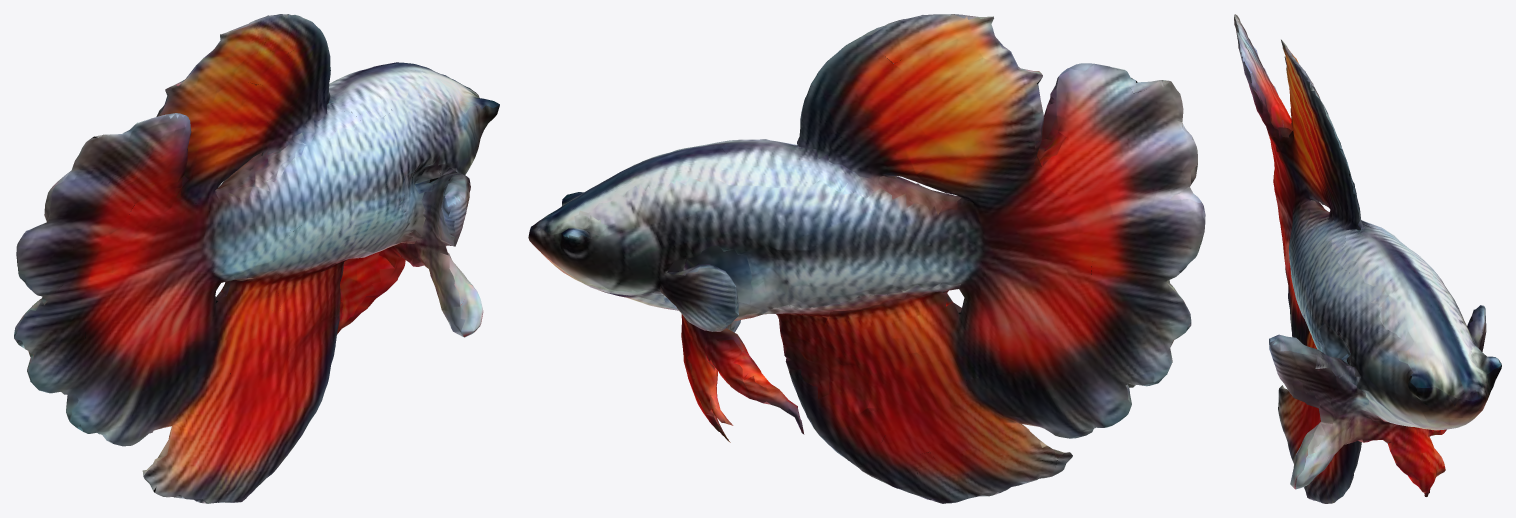
3 views of the same model, side by side, from view 1: azimuth 30°, elevation 25°; view 2: azimuth 150°, elevation 25°; view 3: azimuth 270°, elevation 25° (orthographic). The views are drawn at different scales.
Parts seen in each view (by area): view 1: world; view 2: world; view 3: world.
Part boxes in pixels (x1,y1,x2,y2): world: (14, 14, 499, 503); world: (528, 14, 1205, 503); world: (1234, 14, 1501, 503).
Bounding box in the file's own units: 1.01 × 0.823 × 0.4516.
1 material, 1 textured.
